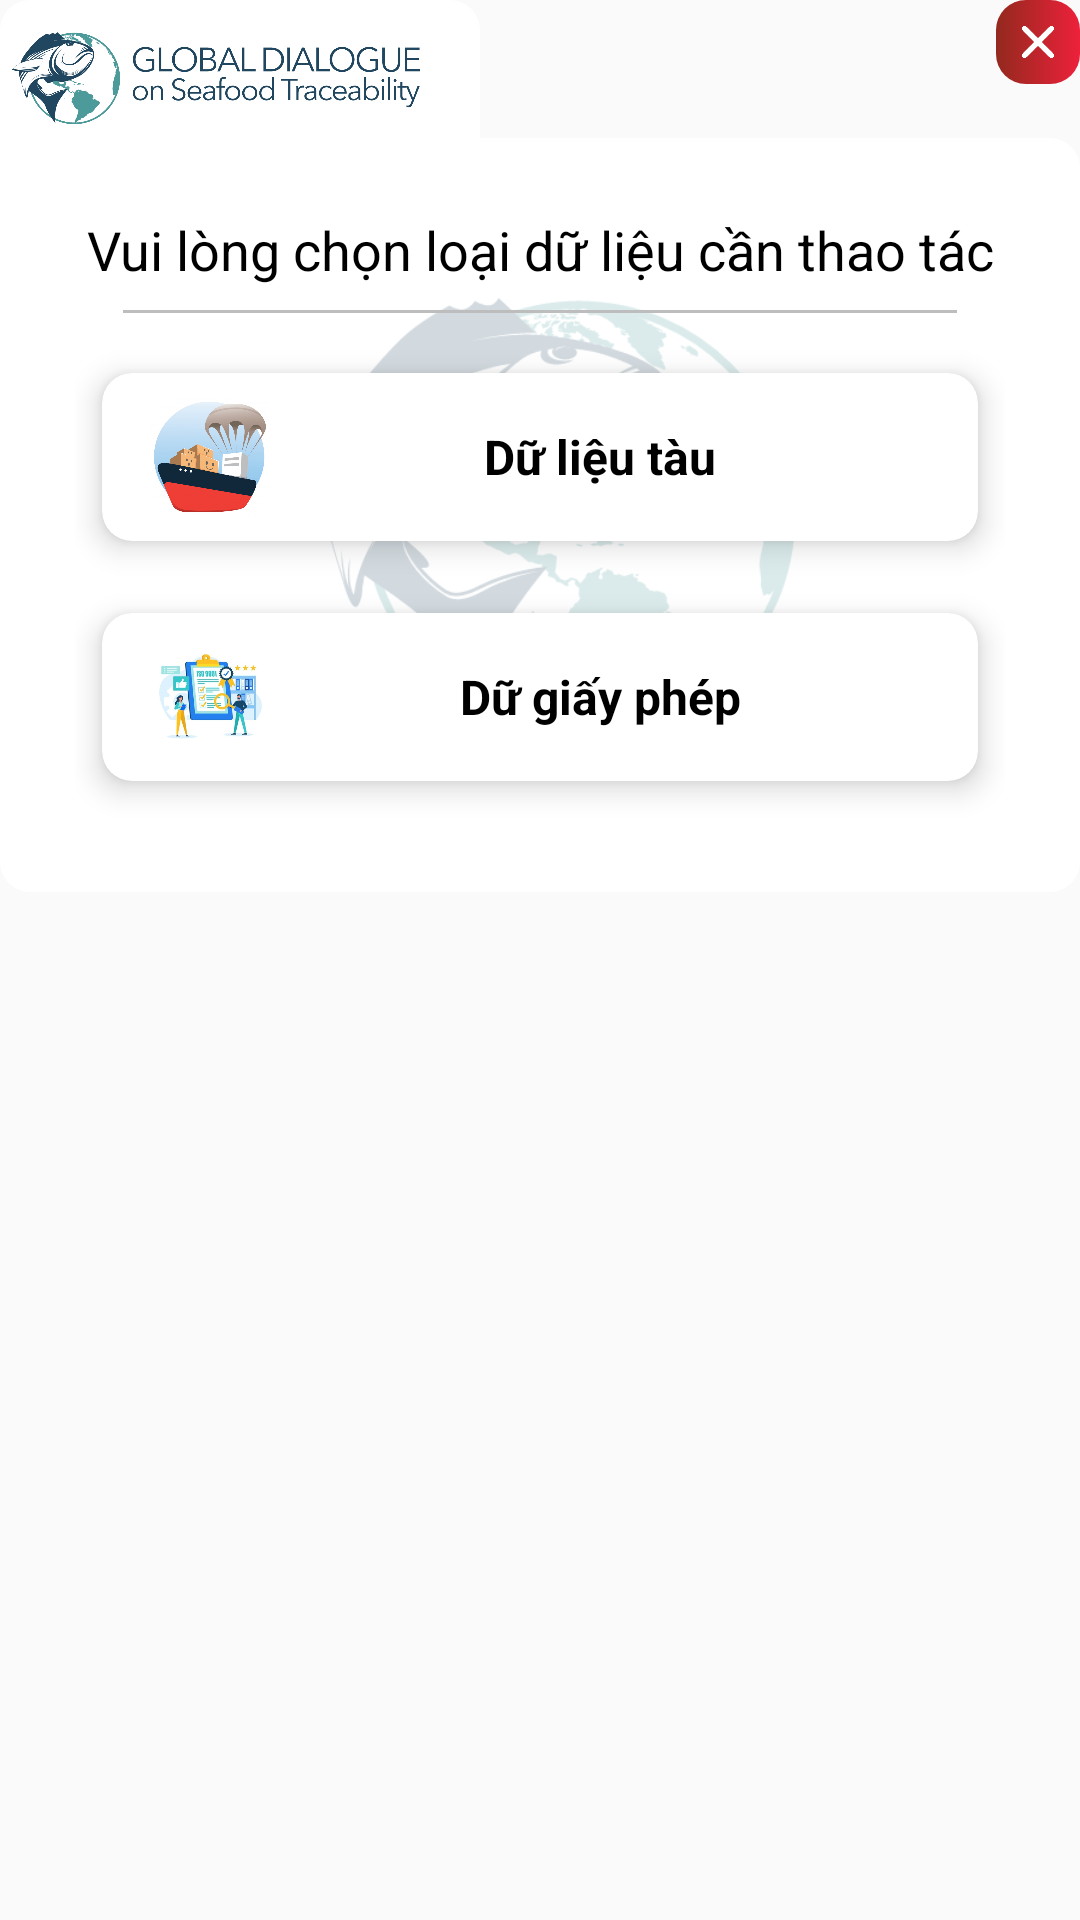

Named icons in this screenshot (1080 x 1920) and their centers, (x=x, y=y):
close: (x=1038, y=42)
license: (x=210, y=696)
shipment: (x=210, y=457)
